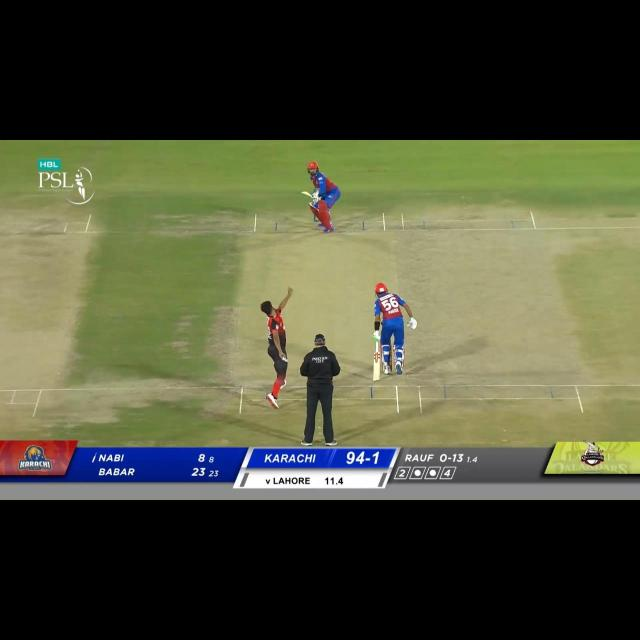bat: (373, 353, 380, 382), (301, 190, 313, 197)
toe: (373, 377, 381, 382), (301, 191, 306, 195)
